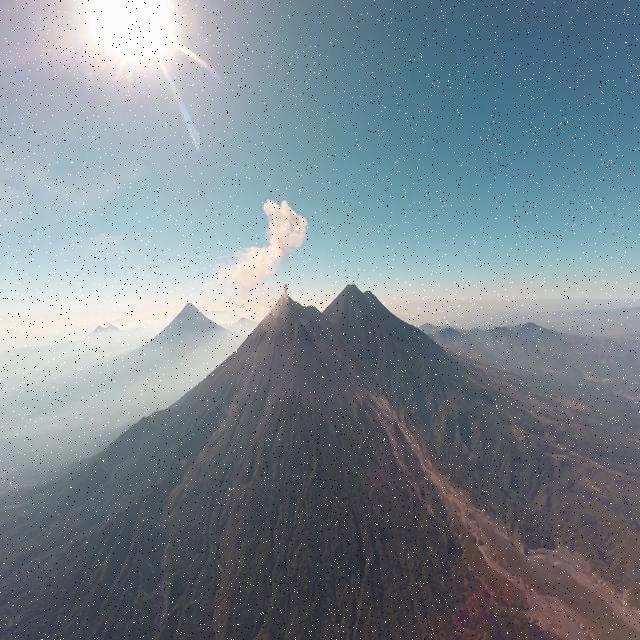Plume: (217, 198, 309, 290), (282, 280, 289, 295)
Summit: (266, 292, 304, 316)
